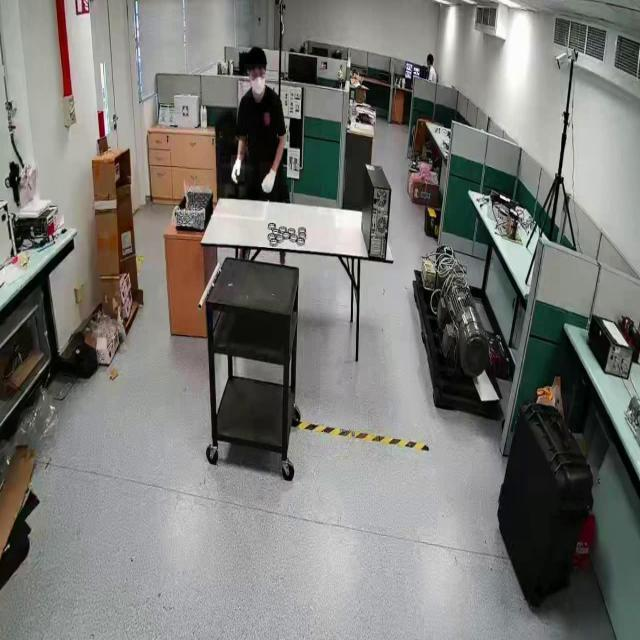face_mask: (245, 64, 268, 98)
hand_glove: (260, 162, 278, 201), (231, 155, 245, 182)
head_nohelmet: (245, 45, 267, 64), (426, 52, 434, 59)
person: (231, 44, 297, 200)
